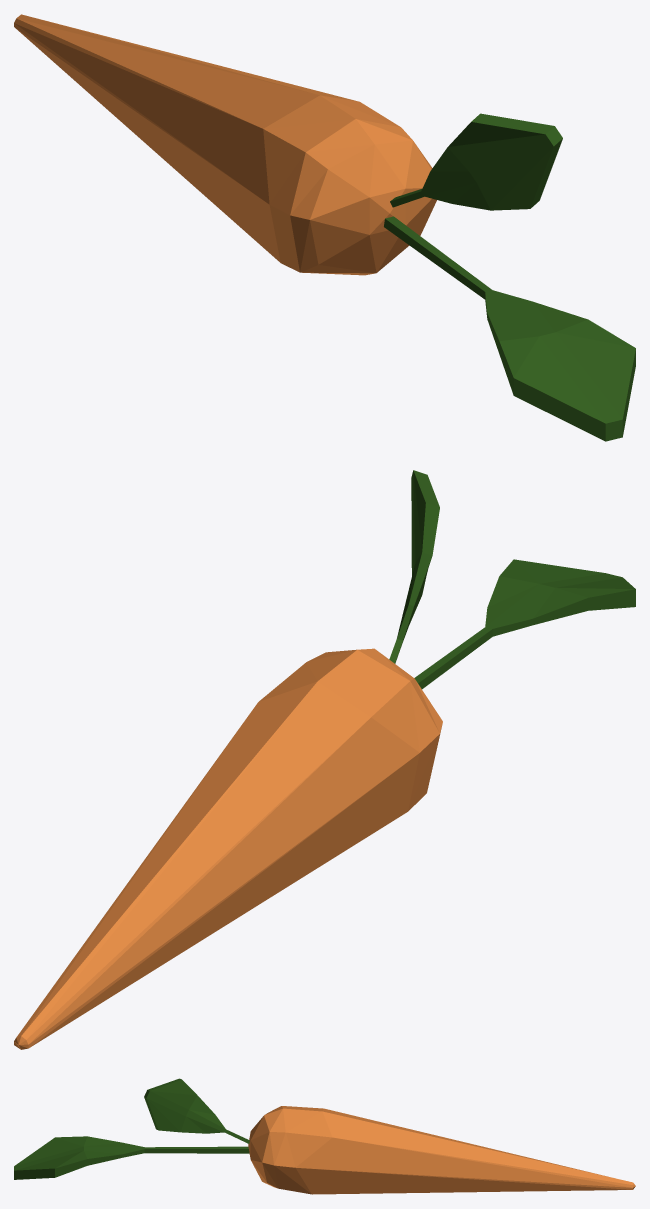
The model's file is carotte.fbx.
The picture shows the model from 3 angles, top to bottom: view 1: azimuth 30°, elevation 25°; view 2: azimuth 150°, elevation 25°; view 3: azimuth 270°, elevation 25°; orthographic projection. The views are drawn at different scales.
Visible parts, largest first — view 1: carotte; view 2: carotte; view 3: carotte.
Boxes of the visible parts, bbox=[...] form: carotte: bbox=[14, 14, 635, 441]; carotte: bbox=[14, 470, 635, 1049]; carotte: bbox=[14, 1078, 635, 1194].
Size of the model in its own units: 11.28 by 77.05 by 16.
